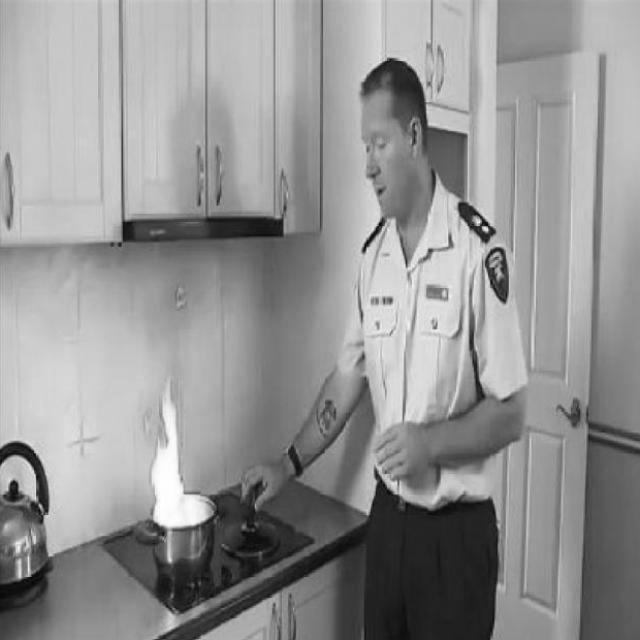smoke: (148, 358, 201, 532)
